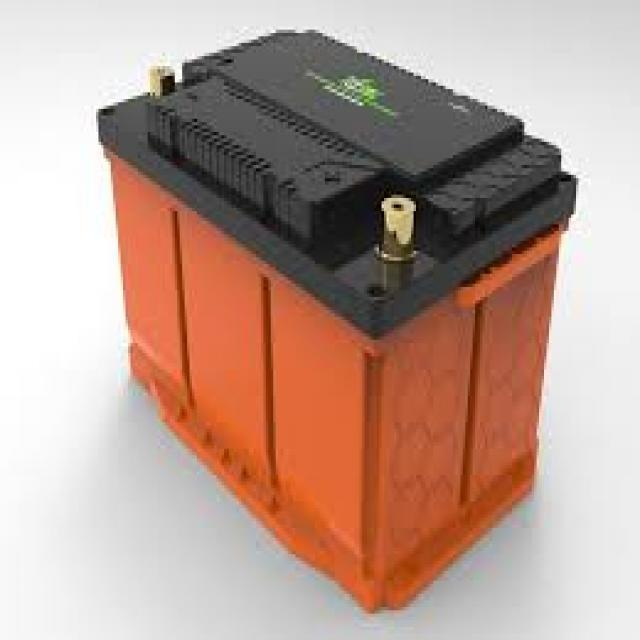battery: (96, 19, 574, 612)
